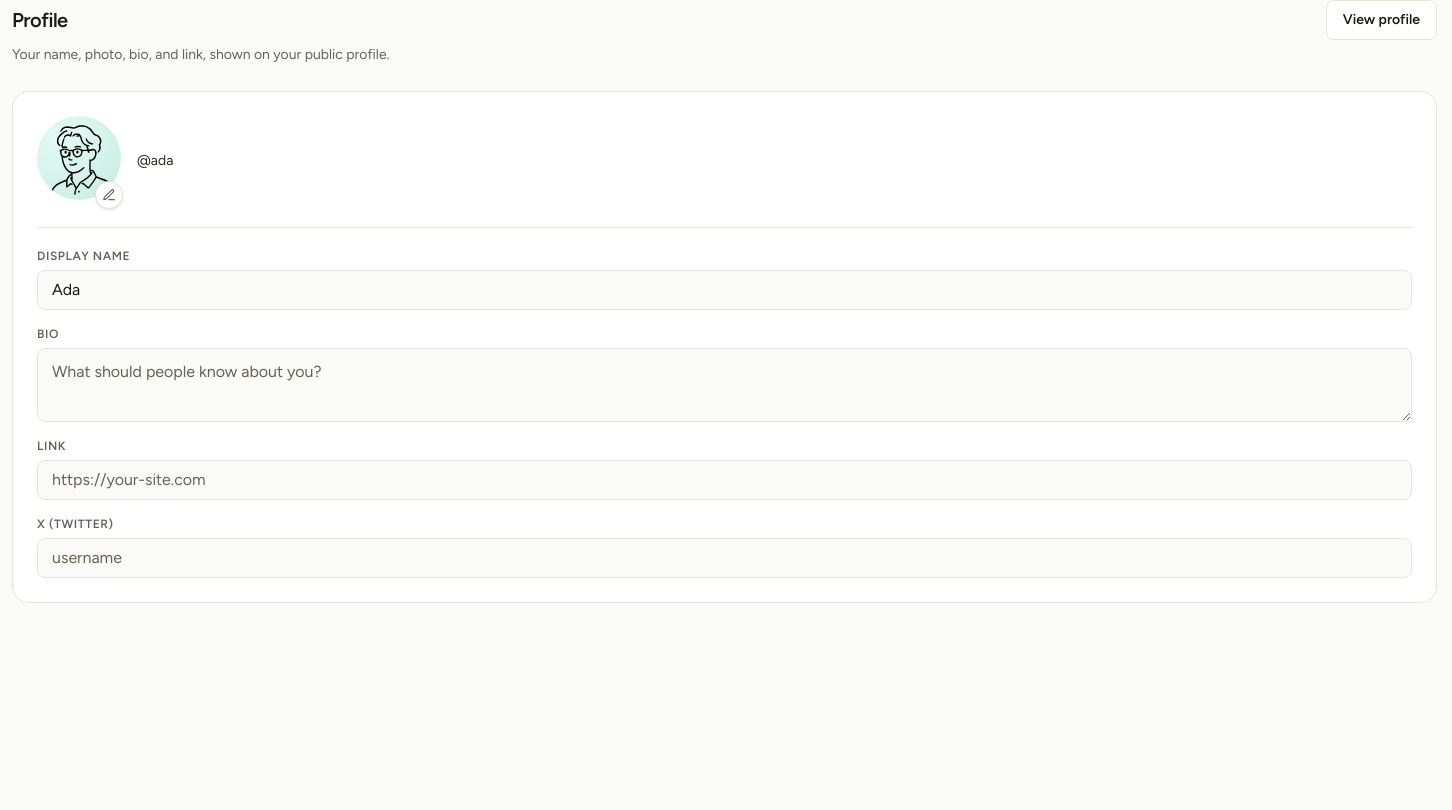
Test: EditDisplayName › discards changes back to the saved values
The image size is (1452, 810).
Step 1. Replace the text in the field named "Display name" with "Mallory" → (724, 290), box [37,270,1412,310]
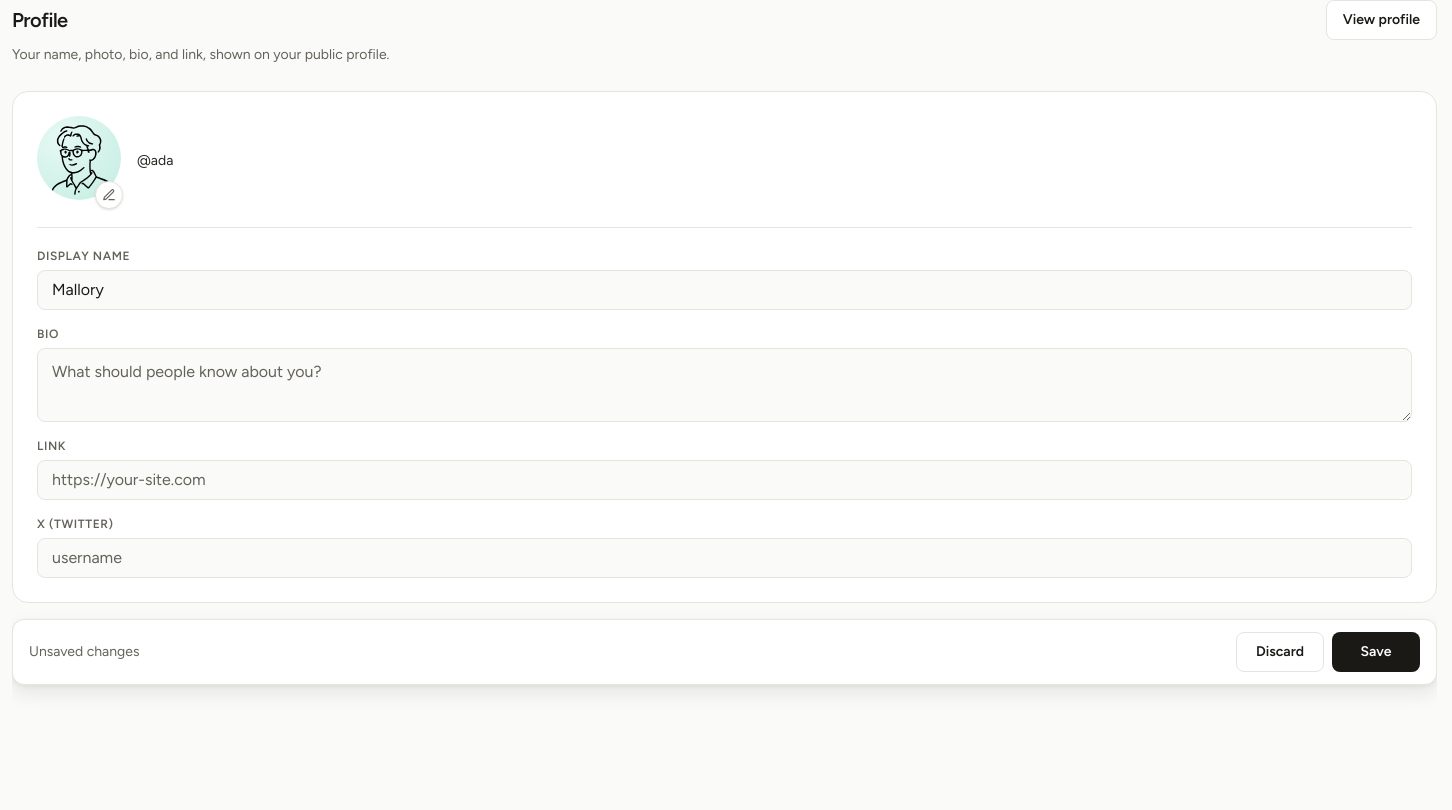
Step 2. Click the button "Discard" → click(1280, 652), box [1236,632,1324,672]
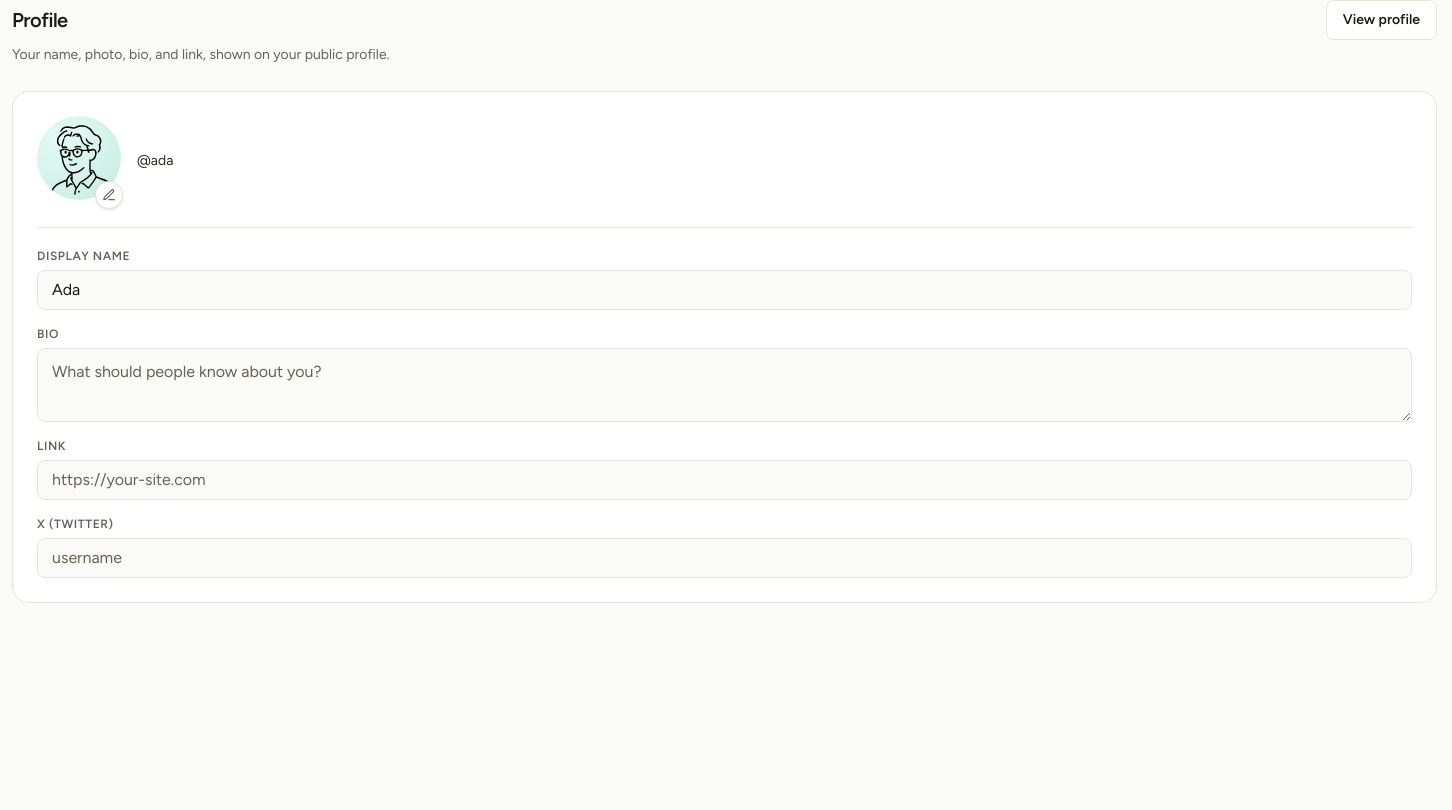
expect the field named "Display name" holds "Ada": met, box [37,270,1412,310]
expect the text "save" is gone: met
